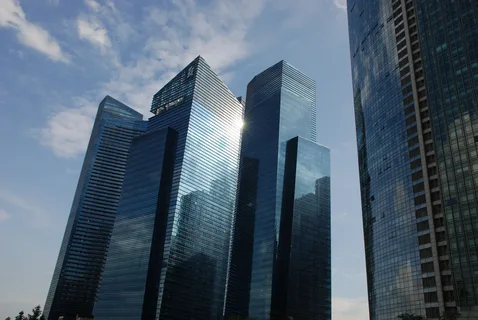high_rise_building: (81, 51, 219, 309), (225, 54, 336, 318)
